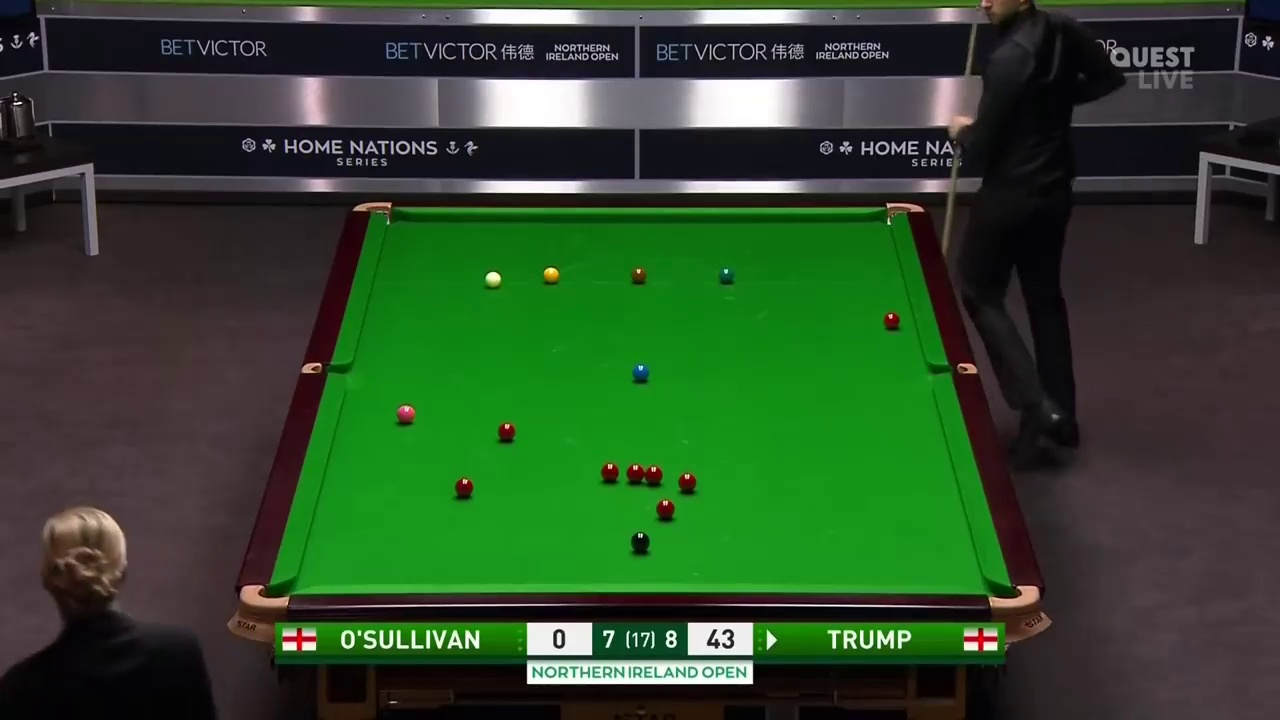black: (633, 532, 652, 550)
blue: (631, 363, 653, 383)
brown: (631, 267, 646, 284)
green: (714, 266, 737, 284)
pink: (396, 405, 415, 422)
red: (597, 463, 619, 483), (453, 478, 473, 499), (647, 464, 663, 489), (655, 501, 675, 519), (884, 309, 901, 329), (498, 423, 516, 441), (678, 475, 696, 491)
white: (483, 271, 503, 290)
yellow: (543, 266, 562, 285)
